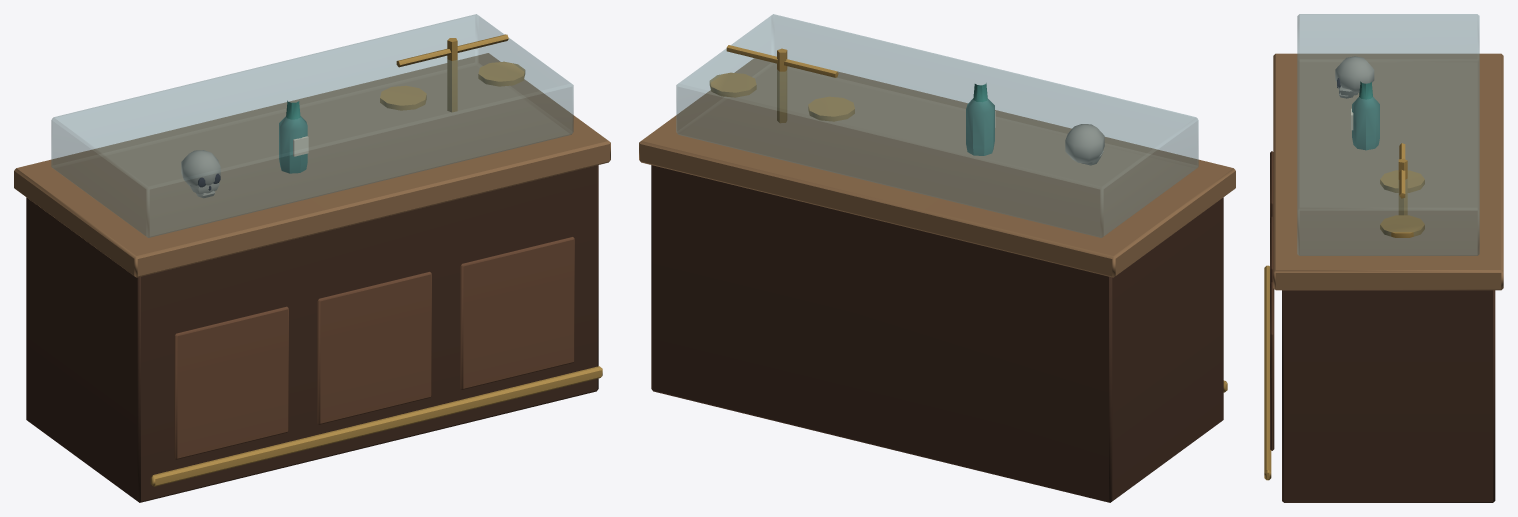
The model's file is counter_curio.glb.
The picture shows the model from 3 angles, left to right: view 1: azimuth 30°, elevation 25°; view 2: azimuth 150°, elevation 25°; view 3: azimuth 270°, elevation 25°; orthographic projection. The views are drawn at different scales.
Visible parts, largest first — view 1: counter_curio; view 2: counter_curio; view 3: counter_curio.
Boxes of the visible parts, x1,y1,x2,y2 form: counter_curio: (14, 14, 610, 502); counter_curio: (639, 14, 1235, 502); counter_curio: (1264, 14, 1503, 502).
Bounding box in the file's own units: 1.84 × 1.2 × 0.8525.
